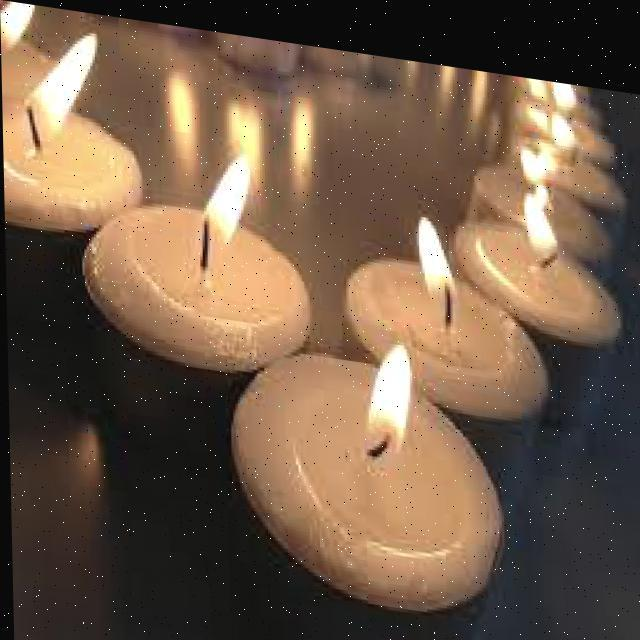Fire: (18, 12, 104, 164), (192, 138, 261, 268), (356, 318, 420, 457), (406, 189, 472, 312), (518, 169, 559, 253)
